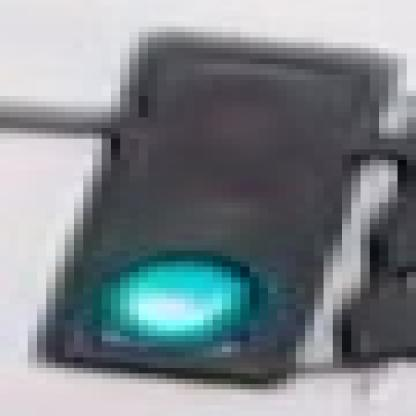Green Light: (73, 33, 386, 379)
